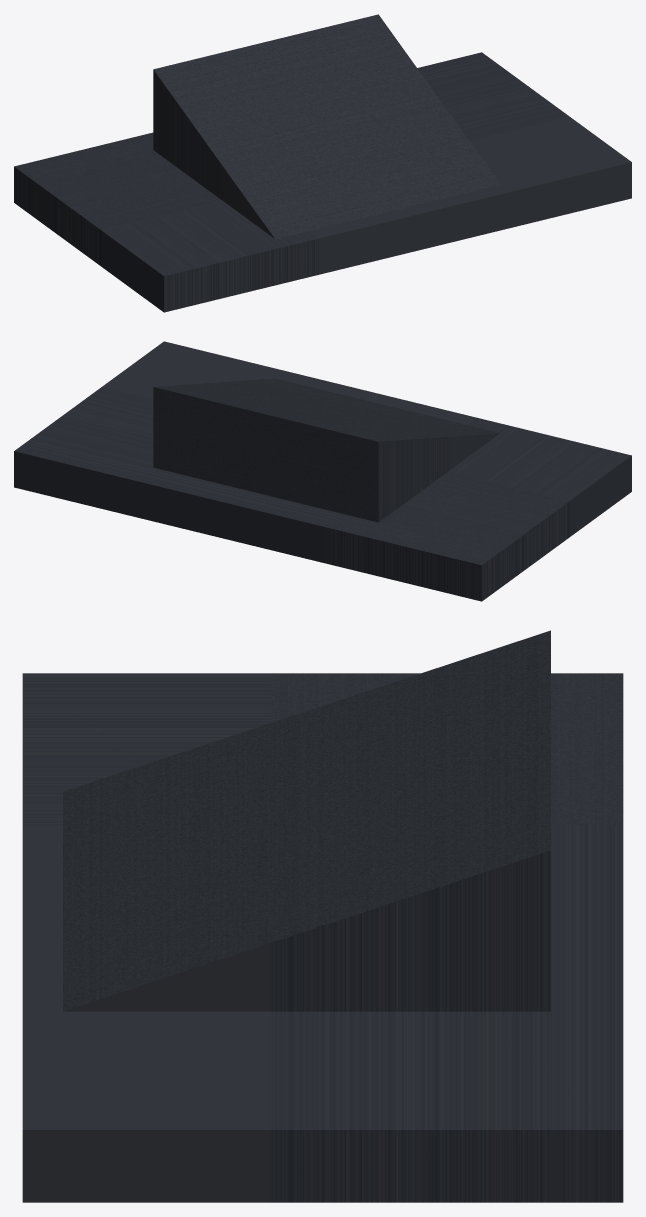
File: plinth.glb
3 renders of one model, top to bottom at view 1: azimuth 30°, elevation 25°; view 2: azimuth 150°, elevation 25°; view 3: azimuth 270°, elevation 25°, orthographic. The views are drawn at different scales.
Parts seen in each view (by area): view 1: plinth; view 2: plinth; view 3: plinth.
Boxes of the visible parts, x1,y1,x2,y2 form: plinth: (14,14,631,312); plinth: (14,341,631,601); plinth: (22,630,623,1202).
Bounding box in the file's own units: 0.54 × 0.129 × 0.3.
1 material, 1 textured.
